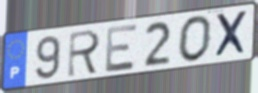2: (144, 20, 174, 69)
9: (33, 34, 63, 81)
E: (104, 22, 140, 75)
O: (177, 14, 214, 64)
R: (66, 28, 103, 79)
X: (214, 9, 250, 60)
